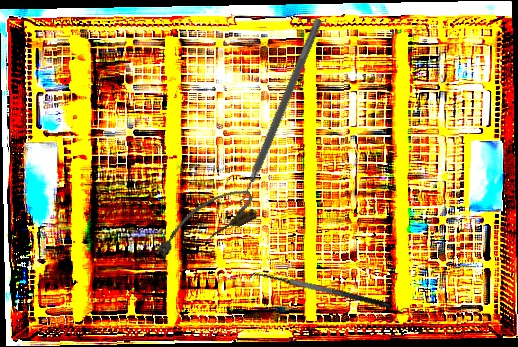Cannula: (145, 181, 262, 267)
Spatula Surgical: (230, 14, 323, 210), (247, 264, 394, 322)
